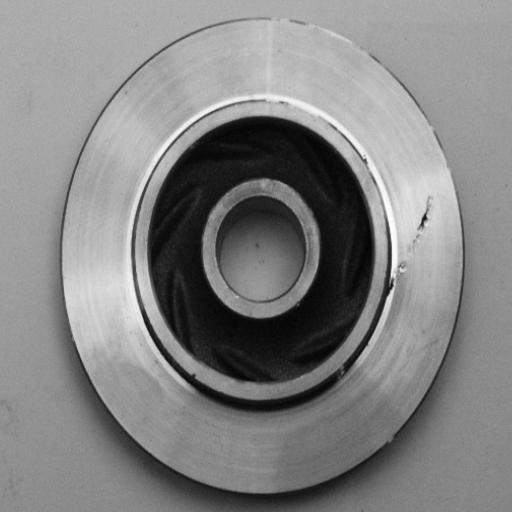crack: (390, 188, 446, 297), (173, 361, 213, 394)
scratch: (247, 89, 335, 122)
unpolished_casting: (60, 16, 467, 500)
